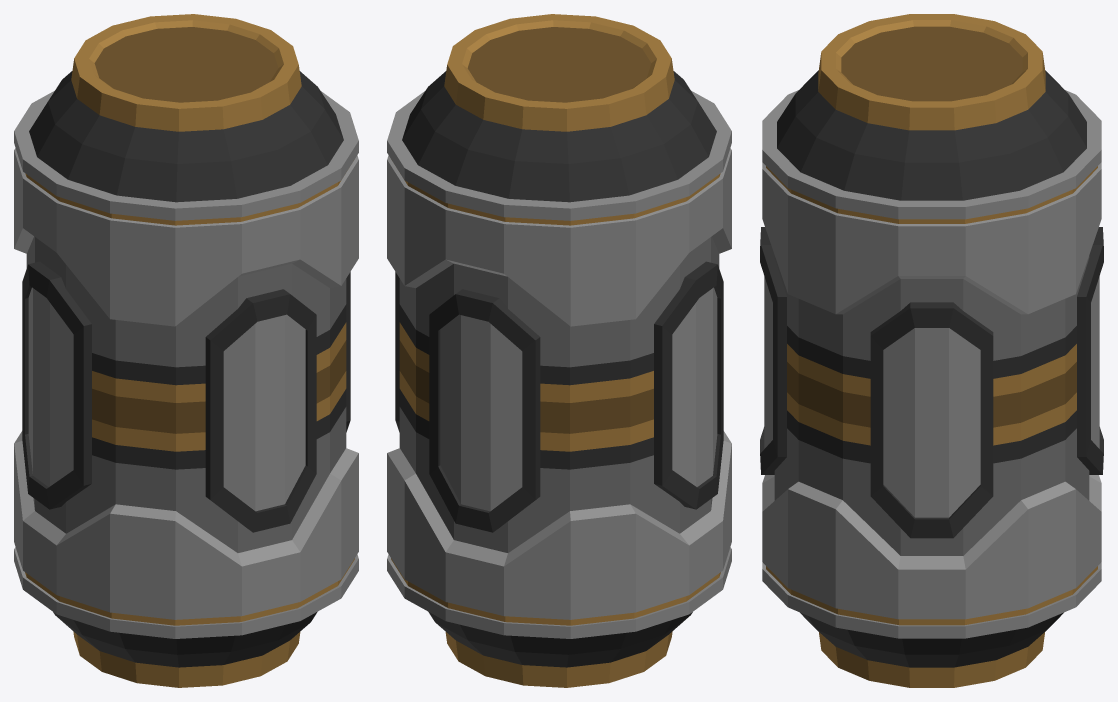
The picture shows the model from 3 angles, left to right: view 1: azimuth 30°, elevation 25°; view 2: azimuth 150°, elevation 25°; view 3: azimuth 270°, elevation 25°; orthographic projection.
Visible parts, largest first — view 1: Props_Capsule; view 2: Props_Capsule; view 3: Props_Capsule.
Part boxes in pixels (left/top/right/bottom): Props_Capsule: left=14, top=14, right=358, bottom=687; Props_Capsule: left=387, top=14, right=731, bottom=687; Props_Capsule: left=760, top=14, right=1103, bottom=687.
Bounding box in the file's own units: 0.8693 × 1.62 × 0.8693.
